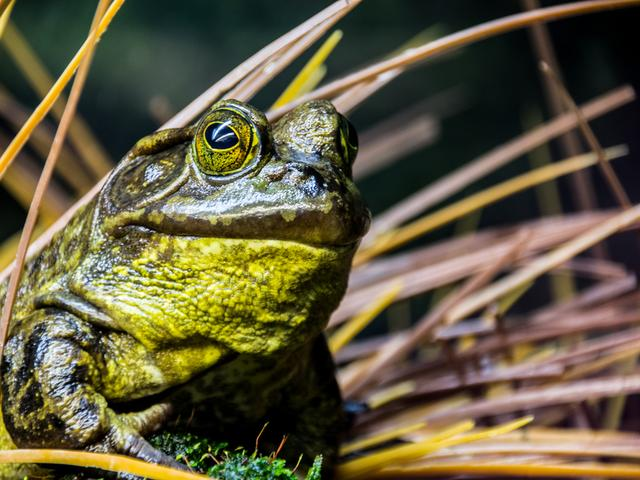frog: (13, 56, 412, 480)
